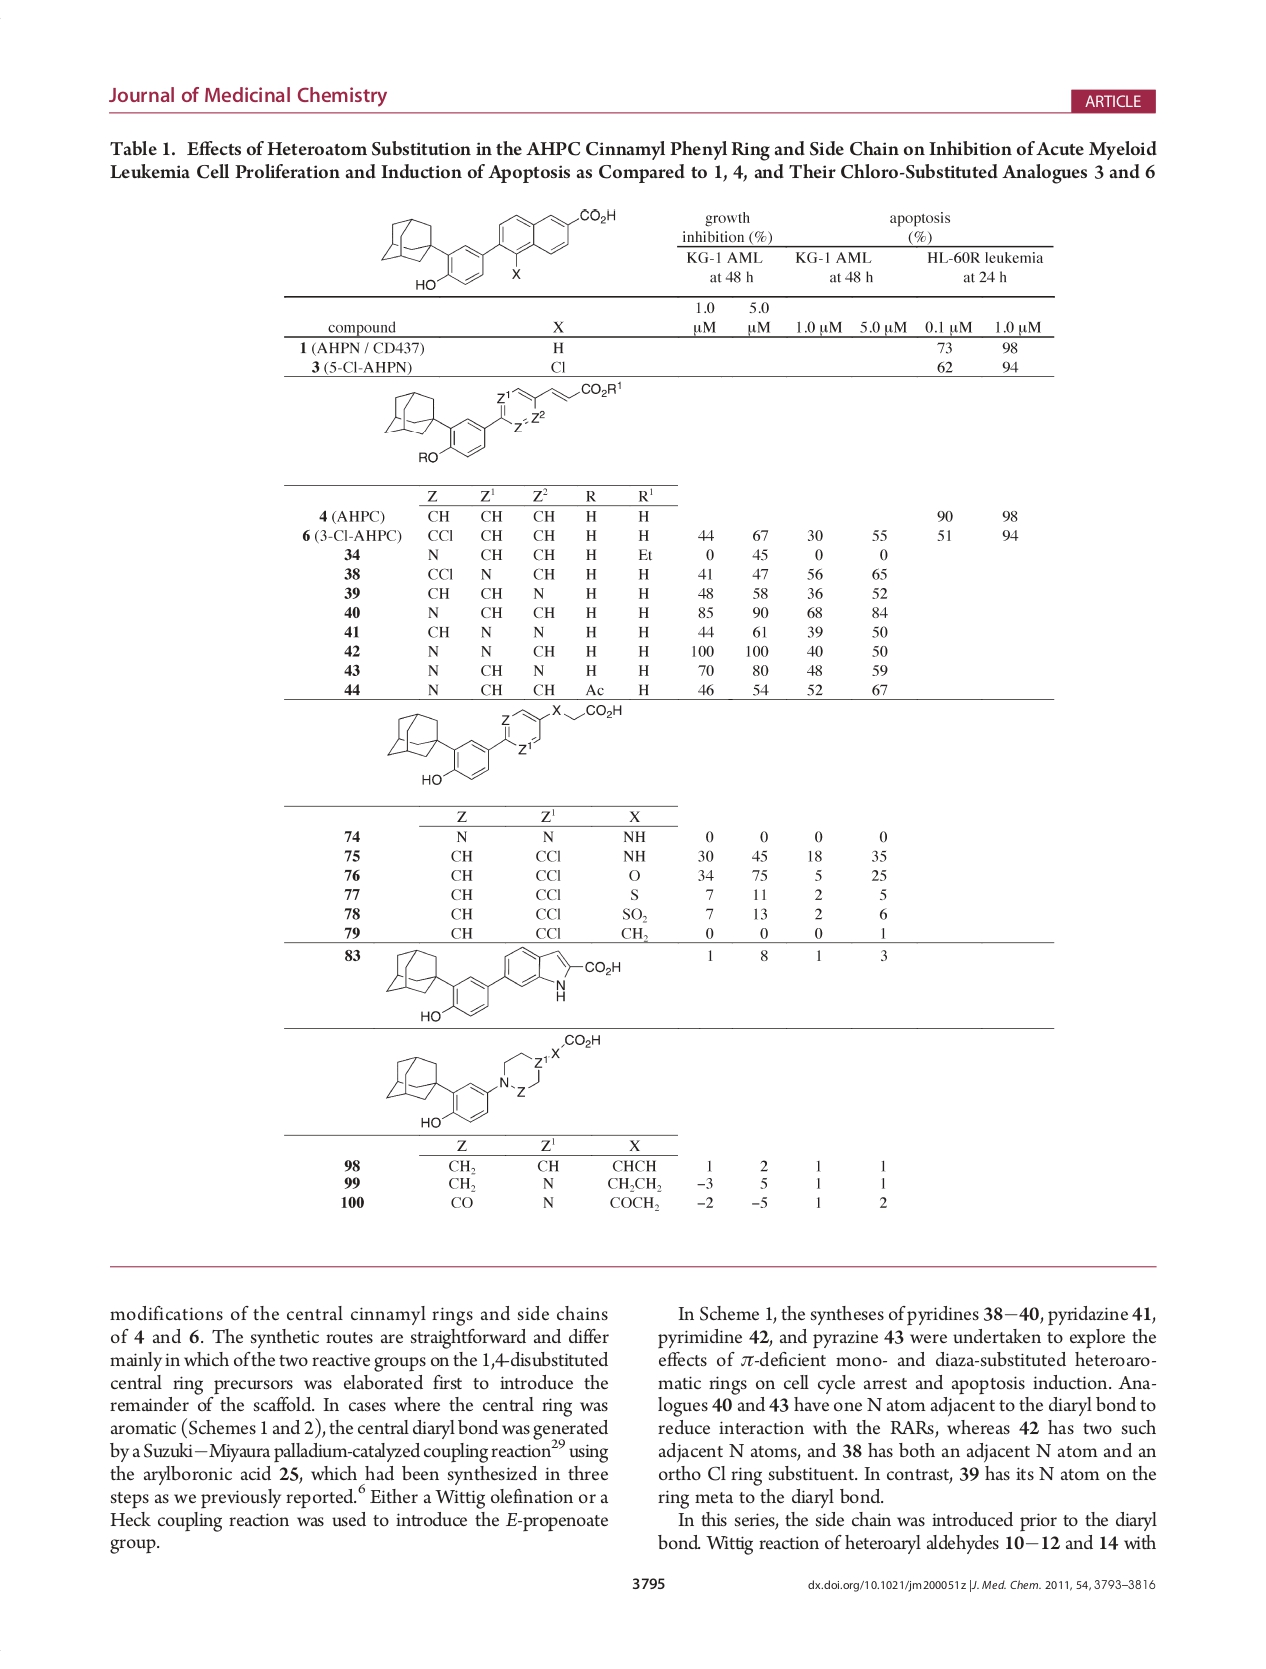exist_molecular: (386, 1031, 610, 1130), (376, 205, 618, 293), (382, 379, 622, 465), (386, 702, 626, 789), (384, 946, 625, 1025)
